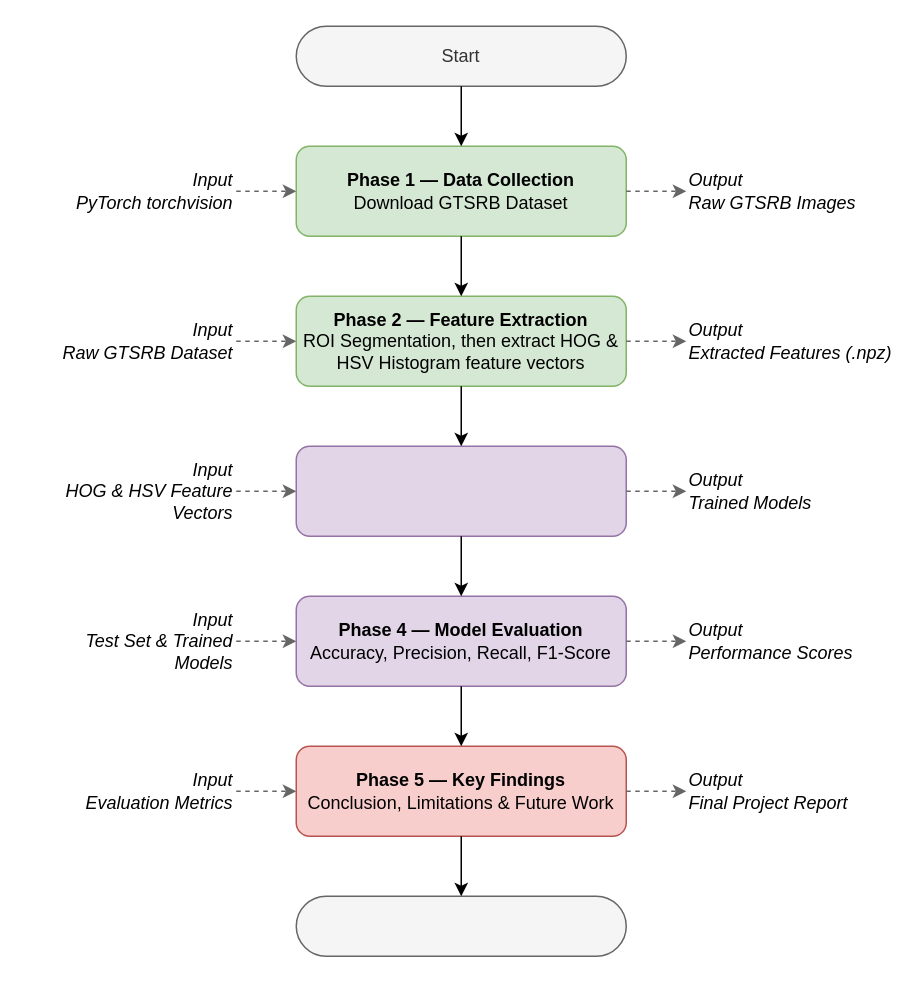
Some shapes in this 921 by 983 pixel diagram are drawn without their labels. Here are the shapes that lost their labels. From the top down, the centre of each, then its label:
At (460,490): "Phase 3 — Model Development Train Machine Learning Models".
At (460,925): "End".
